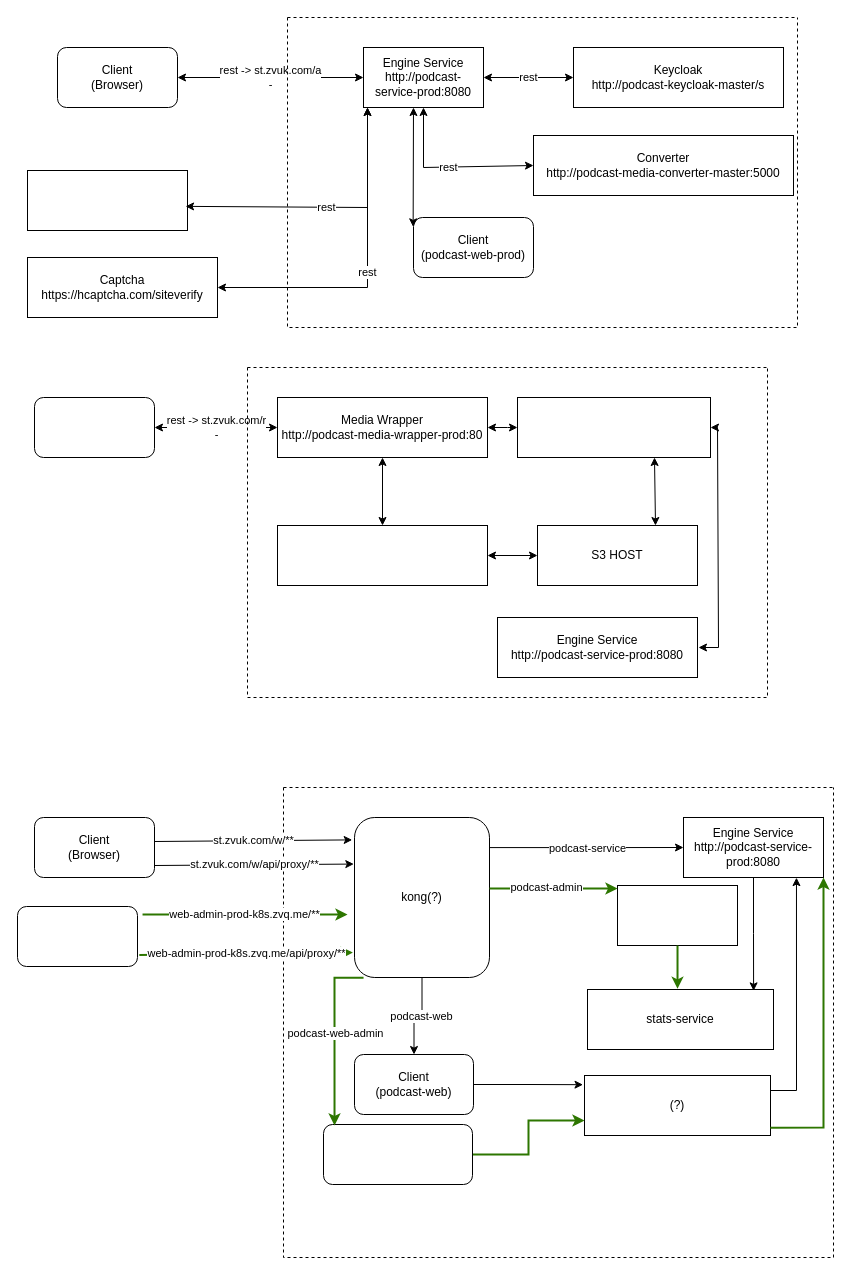
Image size: 851x1275. Some labels were removed from this diagram. The box of each missing label's shape, as (x1, y1, x2, y2) in pixels:
Client: (34, 396, 154, 458)
Client (podcast-web-admin): (322, 1124, 472, 1184)
Client - ADMIN (Browser): (16, 906, 138, 966)
Dasha Mail https://api.dashamail.com: (26, 170, 188, 230)
Media Proxy podcast-media-proxy-master:80: (276, 524, 488, 586)
PODCAST ADMIN http://podcast-service-prod:8080: (616, 884, 738, 946)
Podcast media http://podcast-media-prod:8080: (516, 396, 710, 458)
